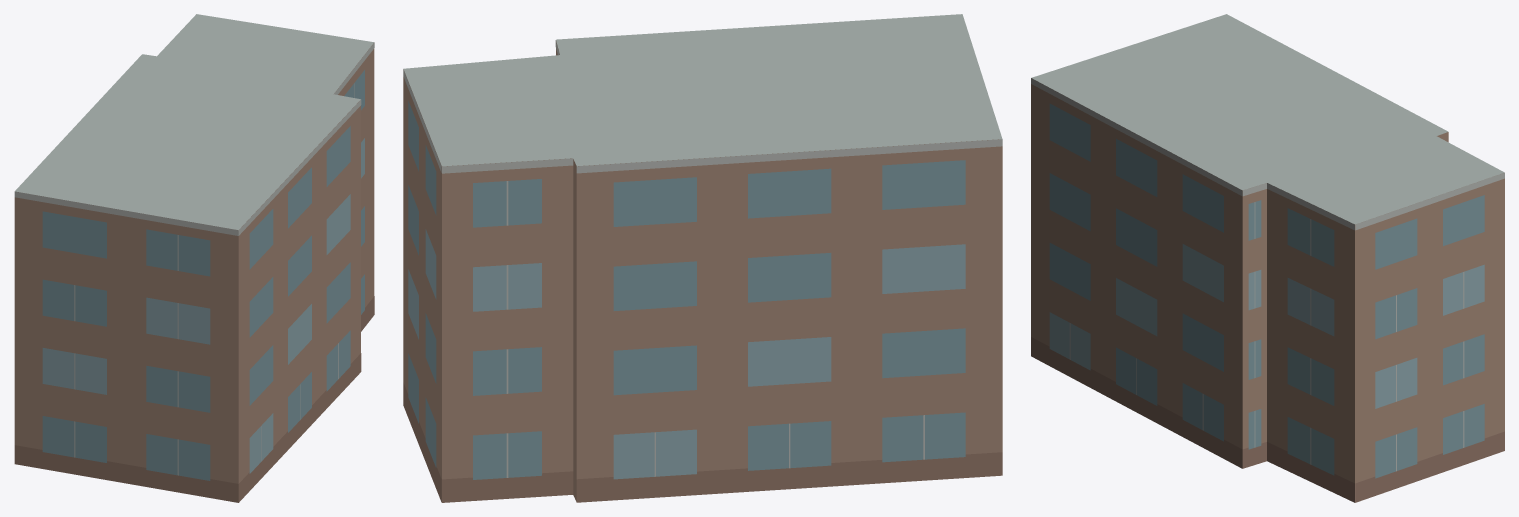
File: survey-upis-32941639.glb
The picture shows the model from 3 angles, left to right: view 1: azimuth 30°, elevation 25°; view 2: azimuth 150°, elevation 25°; view 3: azimuth 270°, elevation 25°; orthographic projection. The views are drawn at different scales.
Visible parts, largest first — view 1: survey-upis-32941639.tmp; view 2: survey-upis-32941639.tmp; view 3: survey-upis-32941639.tmp.
Part boxes in pixels (x1,y1,x2,y2): survey-upis-32941639.tmp: [14, 14, 374, 502]; survey-upis-32941639.tmp: [403, 14, 1002, 502]; survey-upis-32941639.tmp: [1031, 14, 1504, 502].
Size of the model in its own units: 18.34 by 11.3 by 17.44.
